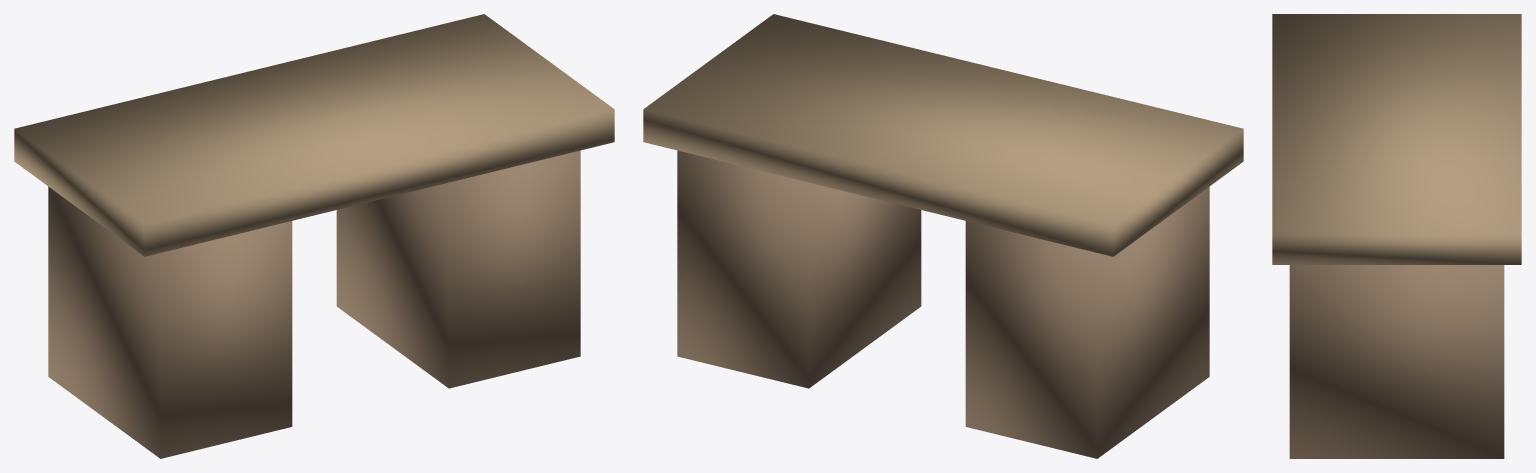
The model's file is teacher_desk.glb.
The picture shows the model from 3 angles, left to right: view 1: azimuth 30°, elevation 25°; view 2: azimuth 150°, elevation 25°; view 3: azimuth 270°, elevation 25°; orthographic projection. The views are drawn at different scales.
Visible parts, largest first — view 1: world; view 2: world; view 3: world.
Part boxes in pixels (bbox=[...]): world: bbox=[14, 14, 614, 458]; world: bbox=[643, 14, 1243, 458]; world: bbox=[1272, 14, 1521, 458].
Bounding box in the file's own units: 1.5 × 0.755 × 0.72.
